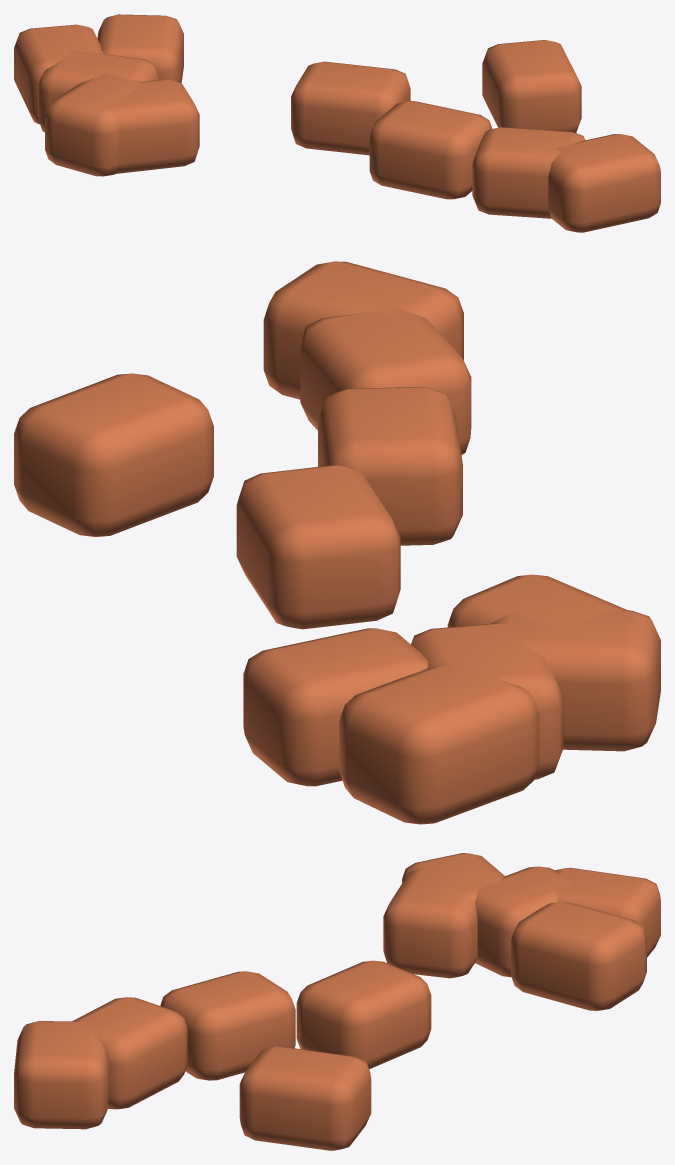
File: BSC-09.glb
The picture shows the model from 3 angles, top to bottom: view 1: azimuth 30°, elevation 25°; view 2: azimuth 150°, elevation 25°; view 3: azimuth 270°, elevation 25°; orthographic projection. The views are drawn at different scales.
Visible parts, largest first — view 1: settled rubble.004, settled rubble.005, settled rubble.007, settled rubble, settled rubble.008, settled rubble.006, settled rubble.009, settled rubble.001, settled rubble.003, settled rubble.002; view 2: settled rubble, settled rubble.003, settled rubble.007, settled rubble.001, settled rubble.005, settled rubble.009, settled rubble.008, settled rubble.004, settled rubble.002, settled rubble.006; view 3: settled rubble.001, settled rubble, settled rubble.007, settled rubble.005, settled rubble.004, settled rubble.006, settled rubble.008, settled rubble.002, settled rubble.003, settled rubble.009.
Boxes of the visible parts, <box> form: settled rubble.004: <box>548,134,660,232</box>; settled rubble.005: <box>369,101,492,199</box>; settled rubble.007: <box>291,61,410,155</box>; settled rubble: <box>482,40,581,132</box>; settled rubble.008: <box>472,127,584,218</box>; settled rubble.006: <box>109,79,199,173</box>; settled rubble.009: <box>45,73,143,176</box>; settled rubble.001: <box>97,14,183,82</box>; settled rubble.003: <box>14,24,103,124</box>; settled rubble.002: <box>38,50,158,132</box>; settled rubble: <box>14,373,213,536</box>; settled rubble.003: <box>339,661,539,824</box>; settled rubble.007: <box>236,465,400,629</box>; settled rubble.001: <box>243,628,427,786</box>; settled rubble.005: <box>318,386,462,545</box>; settled rubble.009: <box>491,609,660,751</box>; settled rubble.008: <box>300,307,471,454</box>; settled rubble.004: <box>263,261,463,399</box>; settled rubble.002: <box>411,623,563,779</box>; settled rubble.006: <box>447,574,627,632</box>; settled rubble.001: <box>511,901,646,1010</box>; settled rubble: <box>239,1046,371,1150</box>; settled rubble.007: <box>296,960,431,1069</box>; settled rubble.005: <box>160,971,295,1080</box>; settled rubble.004: <box>14,1021,108,1129</box>; settled rubble.006: <box>383,867,477,978</box>; settled rubble.008: <box>72,997,187,1109</box>; settled rubble.002: <box>475,866,572,977</box>; settled rubble.003: <box>550,867,660,957</box>; settled rubble.009: <box>402,853,504,901</box>.
Bounding box in the file's own units: 1.65 × 0.23 × 1.86.
